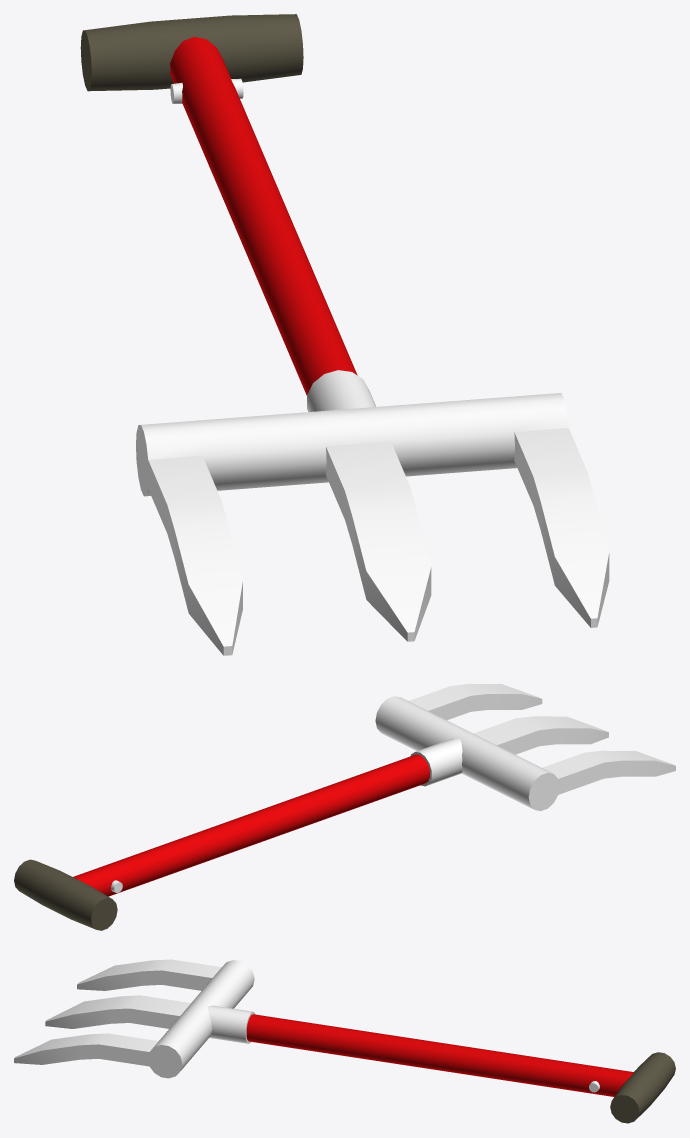
File: garpu tanaman kecil.fbx
3 views of the same model, one above another, from view 1: azimuth 30°, elevation 25°; view 2: azimuth 150°, elevation 25°; view 3: azimuth 270°, elevation 25° (orthographic). The views are drawn at different scales.
Parts seen in each view (by area): view 1: Cylinder.078, Cylinder.080, Cylinder.082, Cylinder.079; view 2: Cylinder.078, Cylinder.080, Cylinder.082, Cylinder.079; view 3: Cylinder.078, Cylinder.080, Cylinder.082, Cylinder.079.
Boxes of the visible parts, bbox=[...] form: Cylinder.078: bbox=[136, 393, 609, 655]; Cylinder.080: bbox=[170, 36, 357, 395]; Cylinder.082: bbox=[80, 14, 303, 91]; Cylinder.079: bbox=[307, 370, 376, 411]; Cylinder.078: bbox=[375, 684, 675, 811]; Cylinder.080: bbox=[73, 754, 429, 896]; Cylinder.082: bbox=[14, 859, 117, 930]; Cylinder.079: bbox=[410, 738, 462, 786]; Cylinder.078: bbox=[14, 959, 254, 1078]; Cylinder.080: bbox=[246, 1014, 633, 1096]; Cylinder.082: bbox=[610, 1052, 675, 1123]; Cylinder.079: bbox=[207, 1005, 255, 1043].
Size of the model in its own units: 202 by 28.22 by 368.
